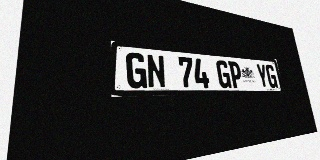4: (193, 58, 210, 88)
7: (177, 57, 195, 88)
G: (126, 52, 147, 88), (216, 60, 232, 88), (265, 64, 278, 88)
N: (146, 54, 166, 88)
P: (228, 61, 243, 88)
Y: (256, 63, 269, 88)
